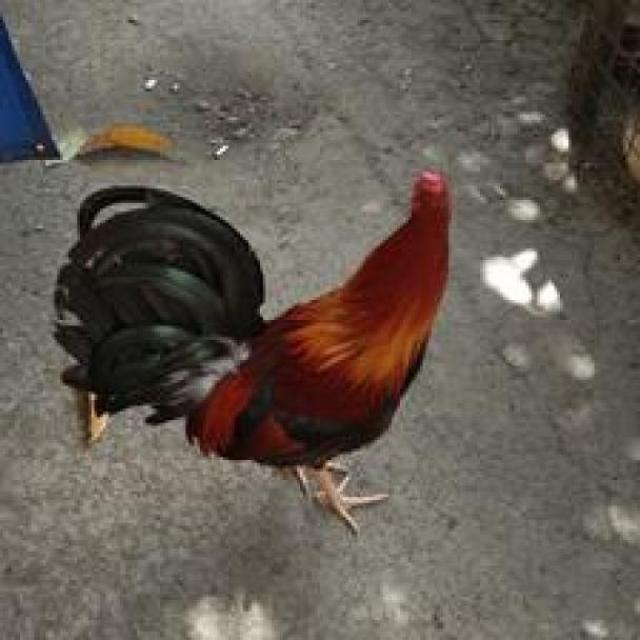Chicken: (54, 159, 485, 559)
